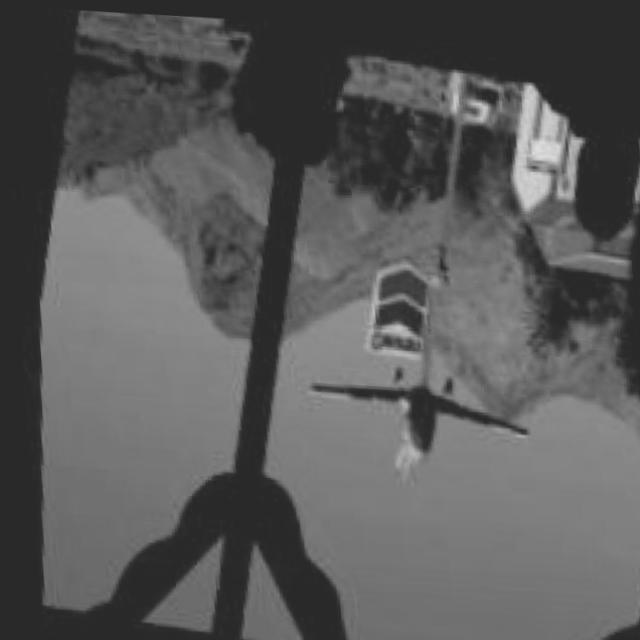aeroplane: (283, 340, 537, 499)
